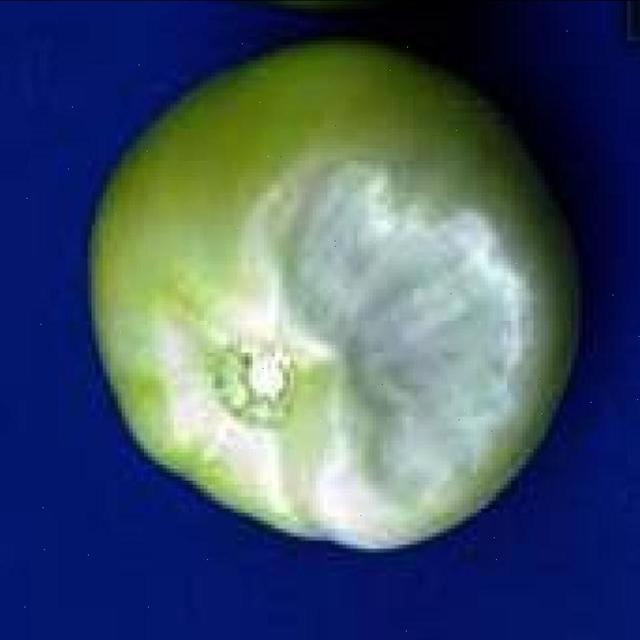Sunscald Fruit: (83, 160, 261, 273)
